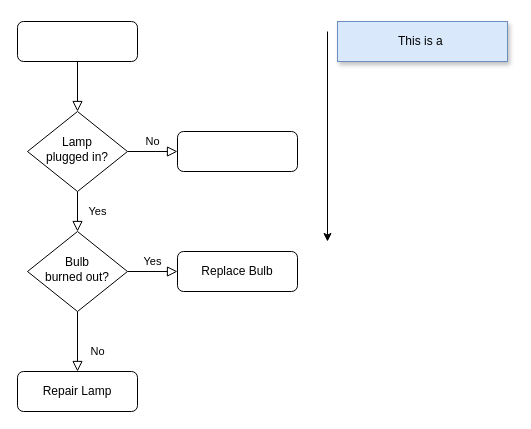
The diagram is 531 pixels wide and 429 high, and some of its shapes have lost their labels. The centre of each missing label's shape, as x and y in pixels:
Lamp doesn't work: (77,41)
Plug in lamp: (237,151)
